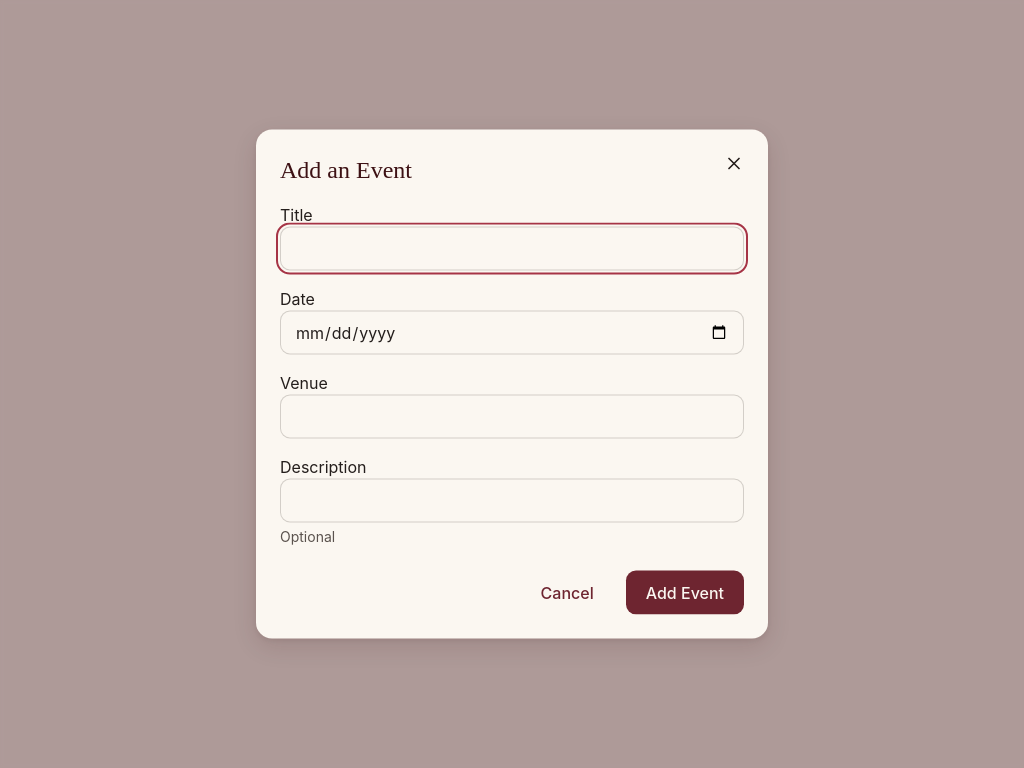
Test case: EventFormModal › requires a title and a date
Step 1. Click the button "Add Event" → (685, 592), box [626, 570, 744, 614]
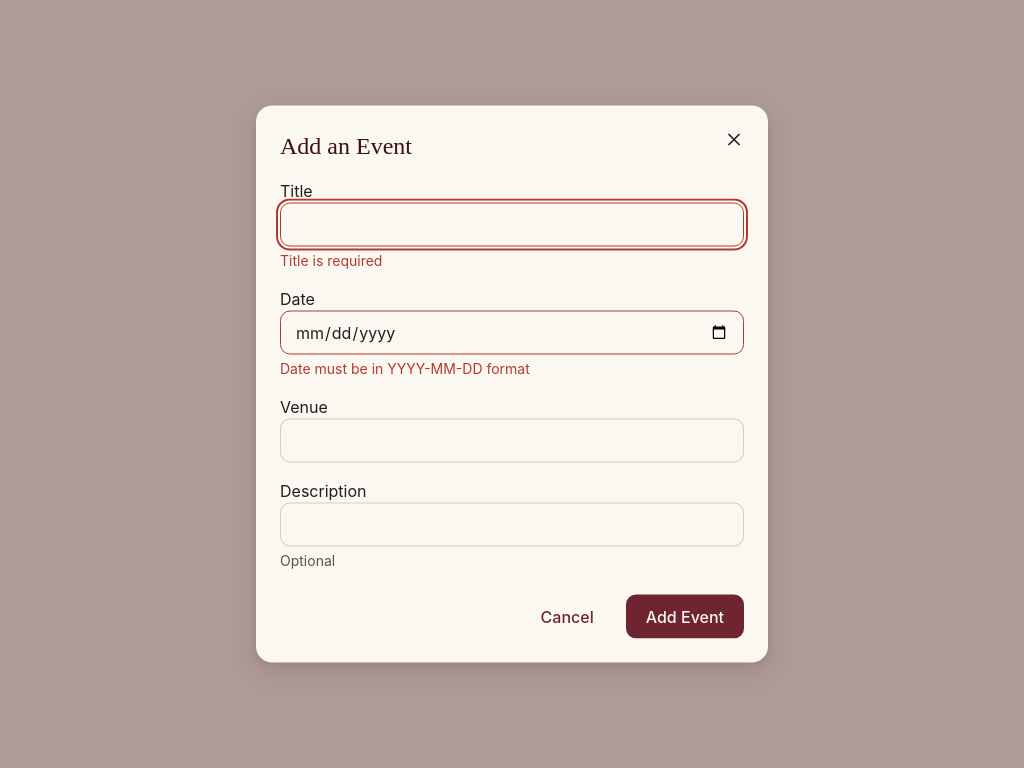
Now the text "Title is required" is shown, box [280, 252, 382, 268]
Now the text "Date must be in YYYY-MM-DD format" is shown, box [280, 360, 530, 376]
